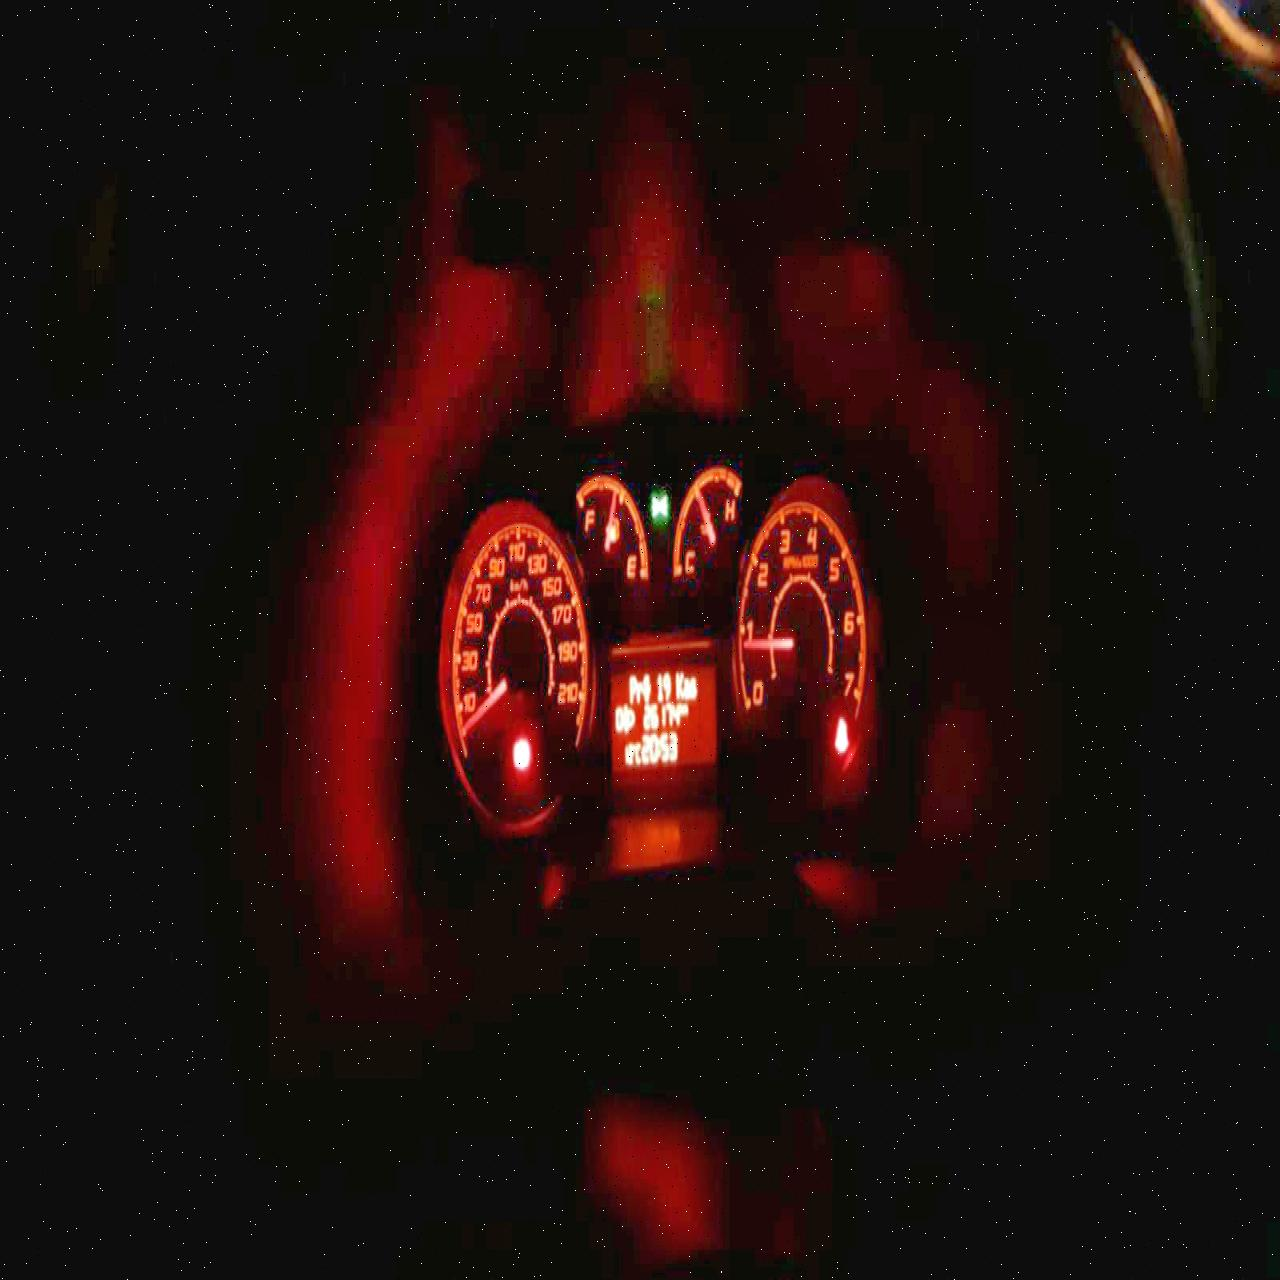0: (648, 731, 658, 763), (614, 703, 622, 731)
1: (655, 670, 662, 701), (660, 703, 666, 726), (624, 740, 627, 765)
2: (641, 731, 649, 763), (642, 703, 651, 730), (627, 740, 633, 765)
3: (668, 729, 678, 762)
4: (672, 701, 680, 726)
5: (659, 729, 668, 762)
6: (649, 701, 659, 730)
7: (665, 701, 673, 726)
9: (662, 669, 672, 700)
X: (685, 674, 697, 700), (641, 670, 651, 701), (674, 669, 683, 700), (628, 673, 636, 703), (634, 740, 641, 765), (635, 678, 641, 703), (680, 703, 689, 715)
odometer: (607, 659, 719, 777)
